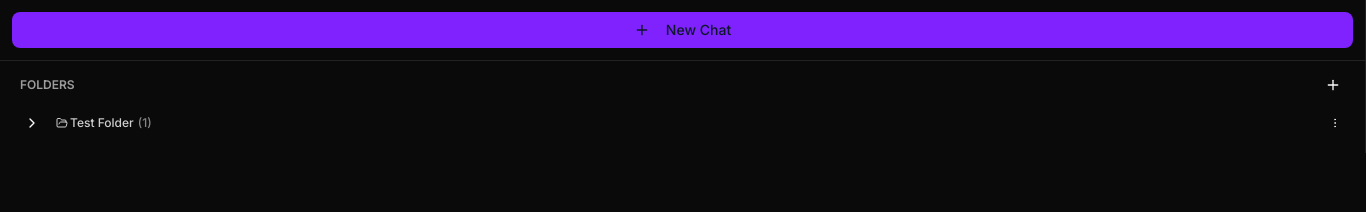
Scenario: SidebarSessions Component › Folder Toggle & Expansion › should toggle folder expansion state
Expected: the text "Test Session" is not shown
// Click to expand
Click the text "Test Folder" at (102, 123), box [70,115,134,131]
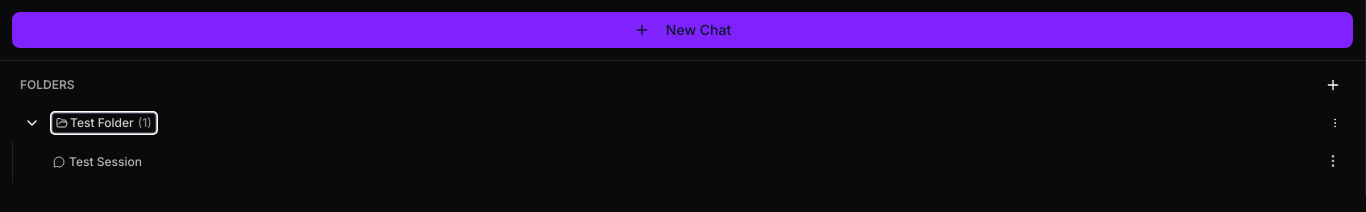
Expected: the text "Test Session" is shown, [69,154,142,169]
